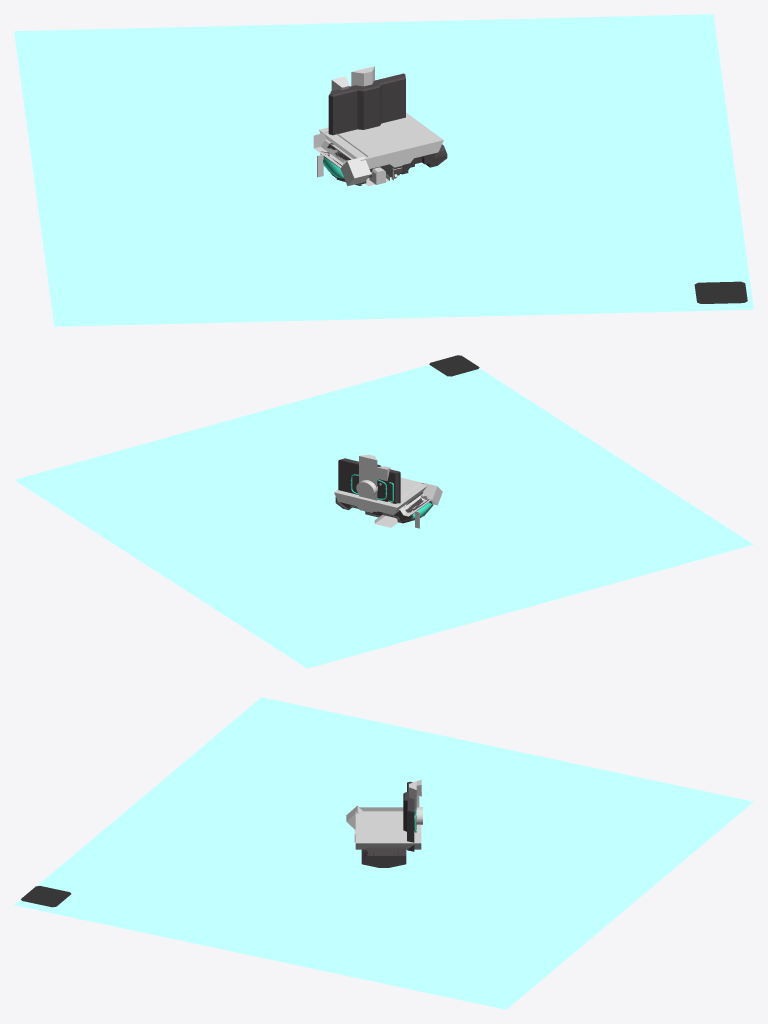
File: cratenewblend.gltf
3 renders of one model, top to bottom at view 1: azimuth 30°, elevation 25°; view 2: azimuth 150°, elevation 25°; view 3: azimuth 270°, elevation 25°, orthographic. The views are drawn at different scales.
Visible parts, largest first — view 1: Plane.006, Vert.002, top, Plane.007, bottom.002, Cube.012, Vert; view 2: Plane.006, Vert.002, top, Plane.007, bottom.002, Cube.009; view 3: Plane.006, Vert.002, bottom.002, Plane.007, top.
Boxes of the visible parts, left/top/right/bottom form: Plane.006: left=14, top=14, right=753, bottom=326; Vert.002: left=319, top=112, right=443, bottom=168; top: left=328, top=73, right=405, bottom=135; Plane.007: left=694, top=281, right=747, bottom=303; bottom.002: left=320, top=143, right=447, bottom=184; Cube.012: left=340, top=156, right=371, bottom=186; Vert: left=313, top=131, right=368, bottom=167; Plane.006: left=14, top=364, right=753, bottom=668; Vert.002: left=334, top=477, right=427, bottom=515; top: left=338, top=458, right=400, bottom=511; Plane.007: left=429, top=355, right=479, bottom=376; bottom.002: left=335, top=492, right=432, bottom=523; Cube.009: left=359, top=454, right=377, bottom=512; Plane.006: left=14, top=697, right=753, bottom=1009; Vert.002: left=355, top=811, right=421, bottom=849; bottom.002: left=361, top=847, right=406, bottom=867; Plane.007: left=21, top=886, right=71, bottom=907; top: left=403, top=781, right=414, bottom=851.
Bounding box in the file's own units: 66.25 × 6.87 × 66.25.
